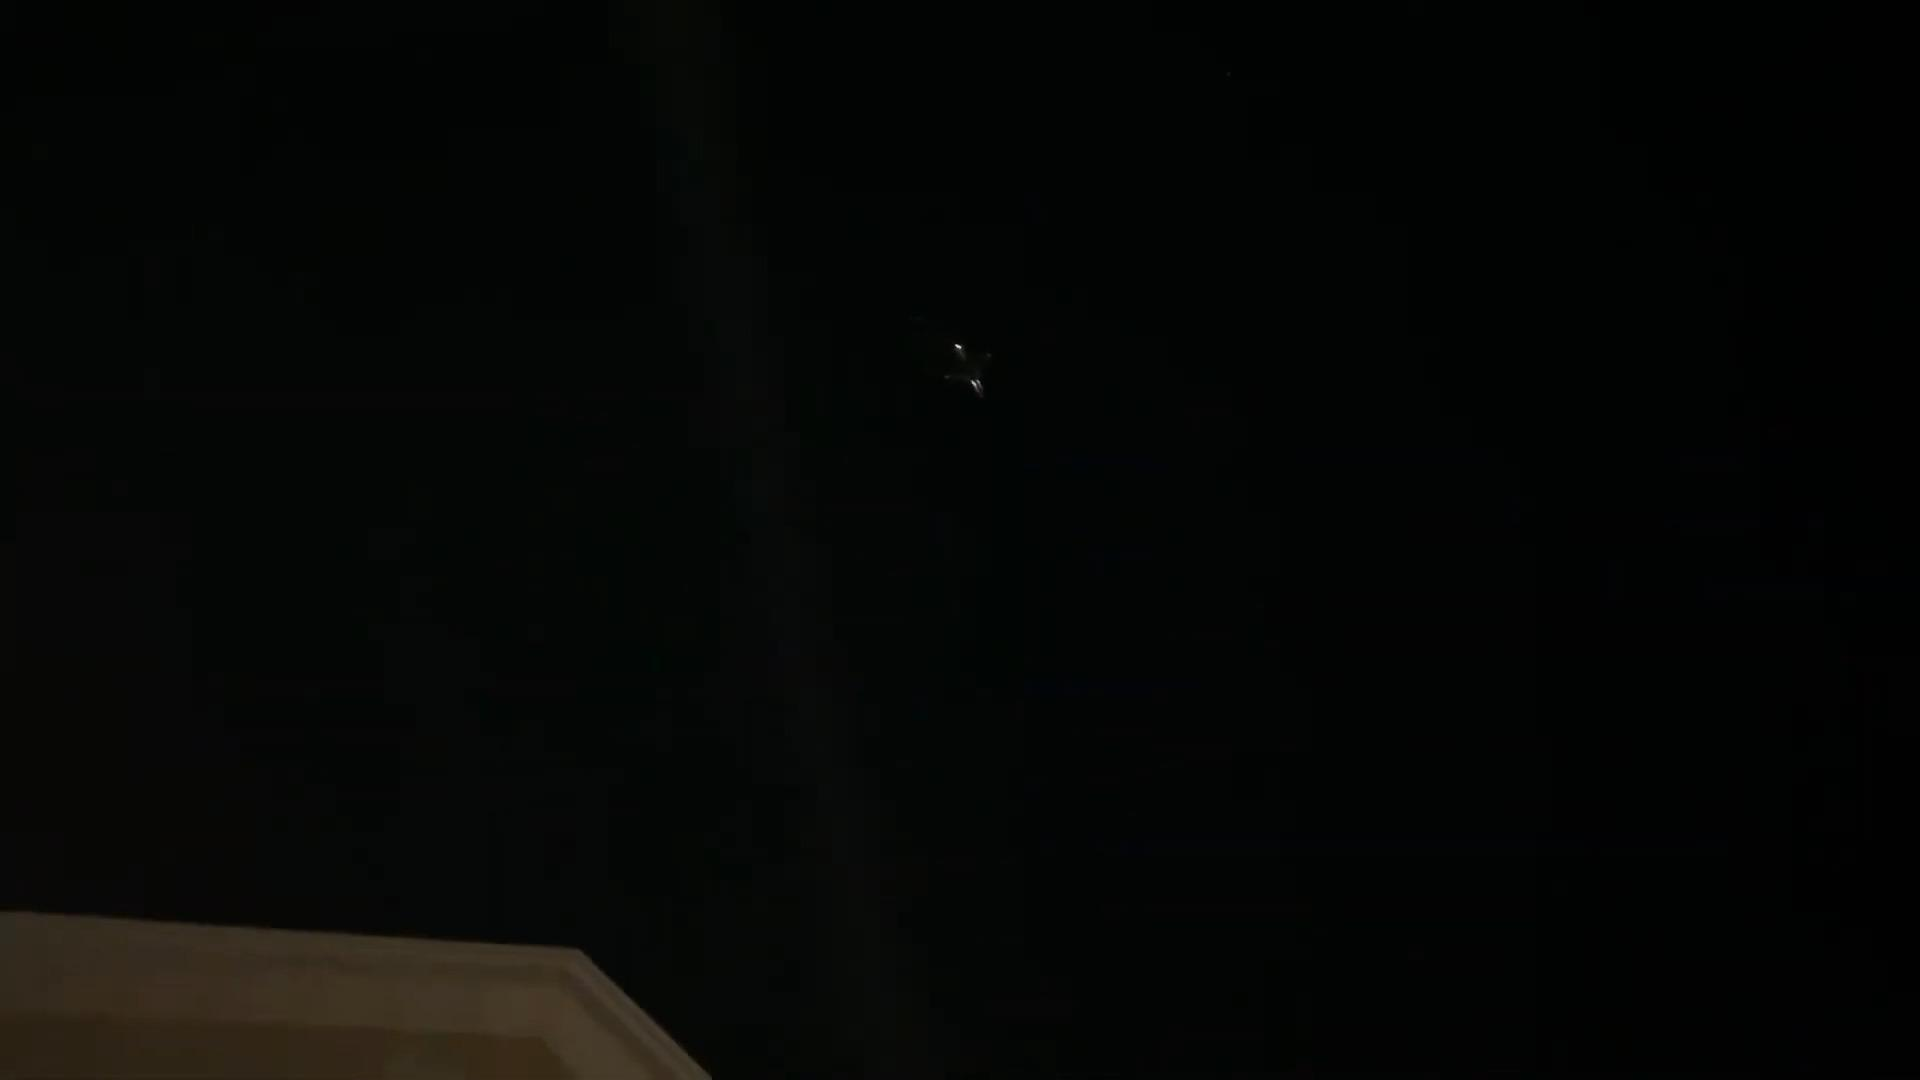Plane: (899, 323, 1015, 422)
